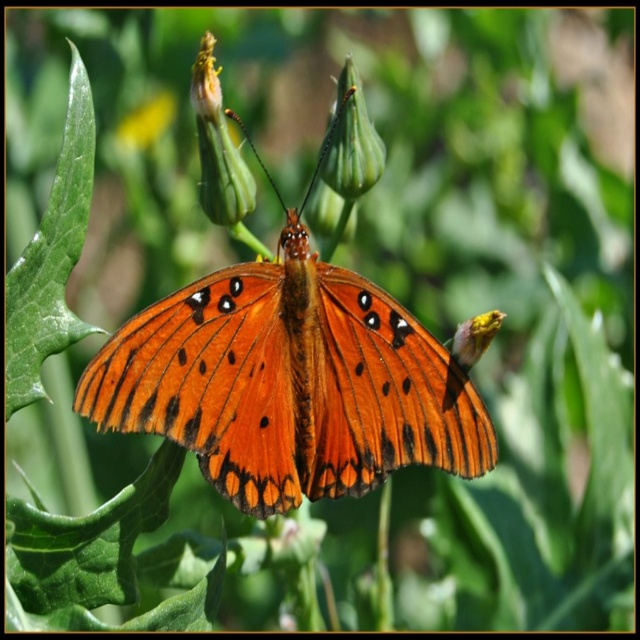Butterfly: (74, 65, 519, 535)
